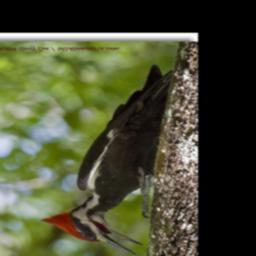Woodpecker: (39, 64, 173, 256)
